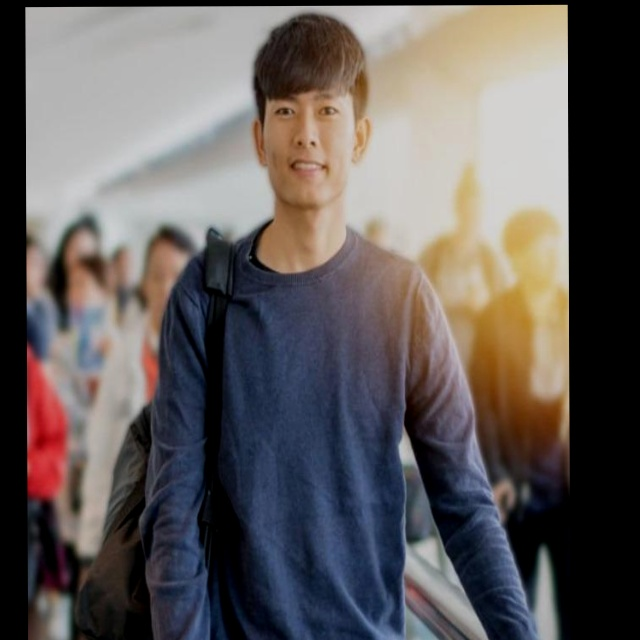Sin_Casco_Mascarrilla: (251, 11, 372, 210)
Sin_Chaleco: (166, 222, 442, 640)
